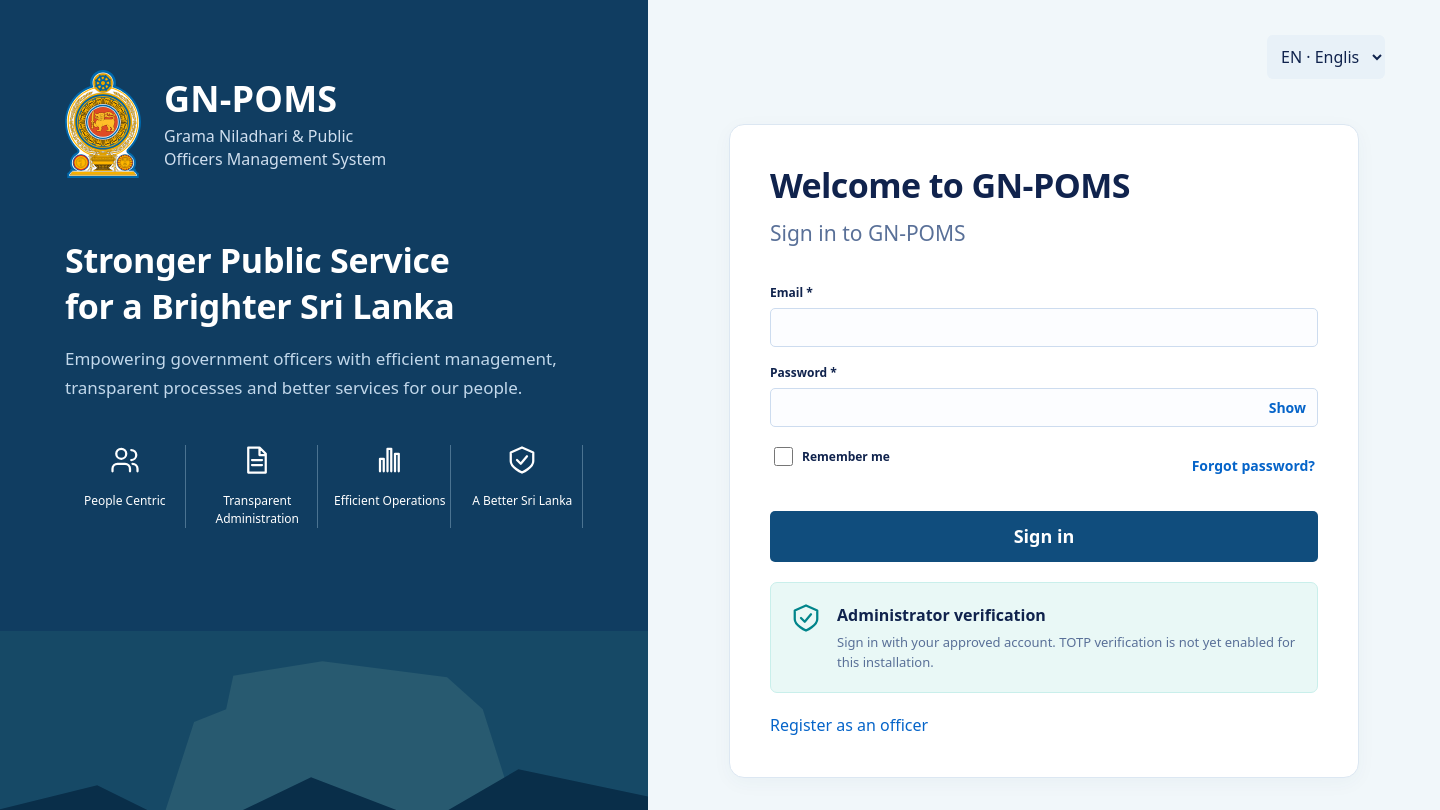
React application workflows › redirects protected pages to login and displays server validation errors
Expected: the heading "Welcome to GN-POMS" is shown, left=770, top=162, right=1130, bottom=208
Type "admin@example.test" into the field labelled "Email *" at (1044, 328), box left=770, top=308, right=1318, bottom=347
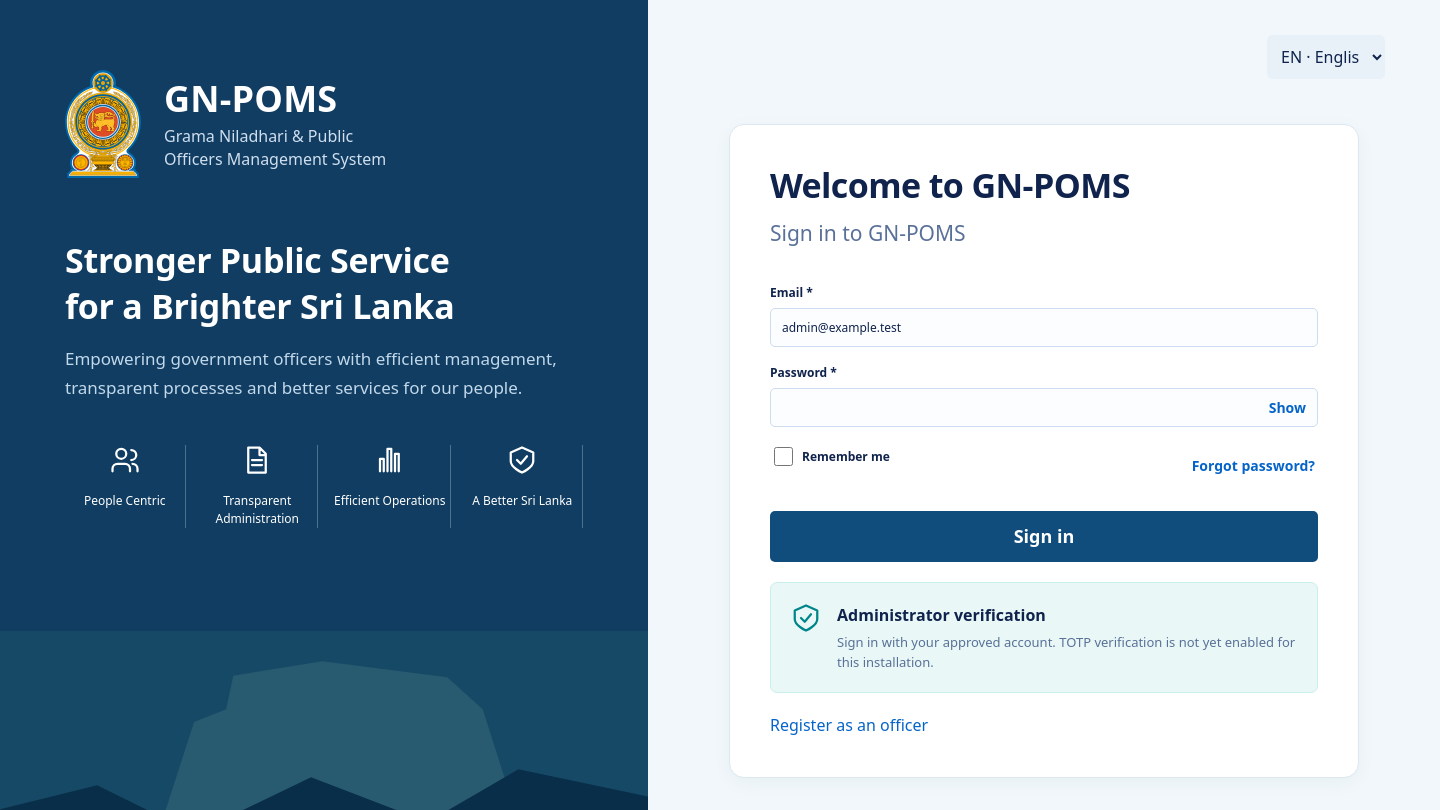
Type "incorrect" into the password field labelled "Password *" at (1044, 408), box left=770, top=388, right=1318, bottom=427
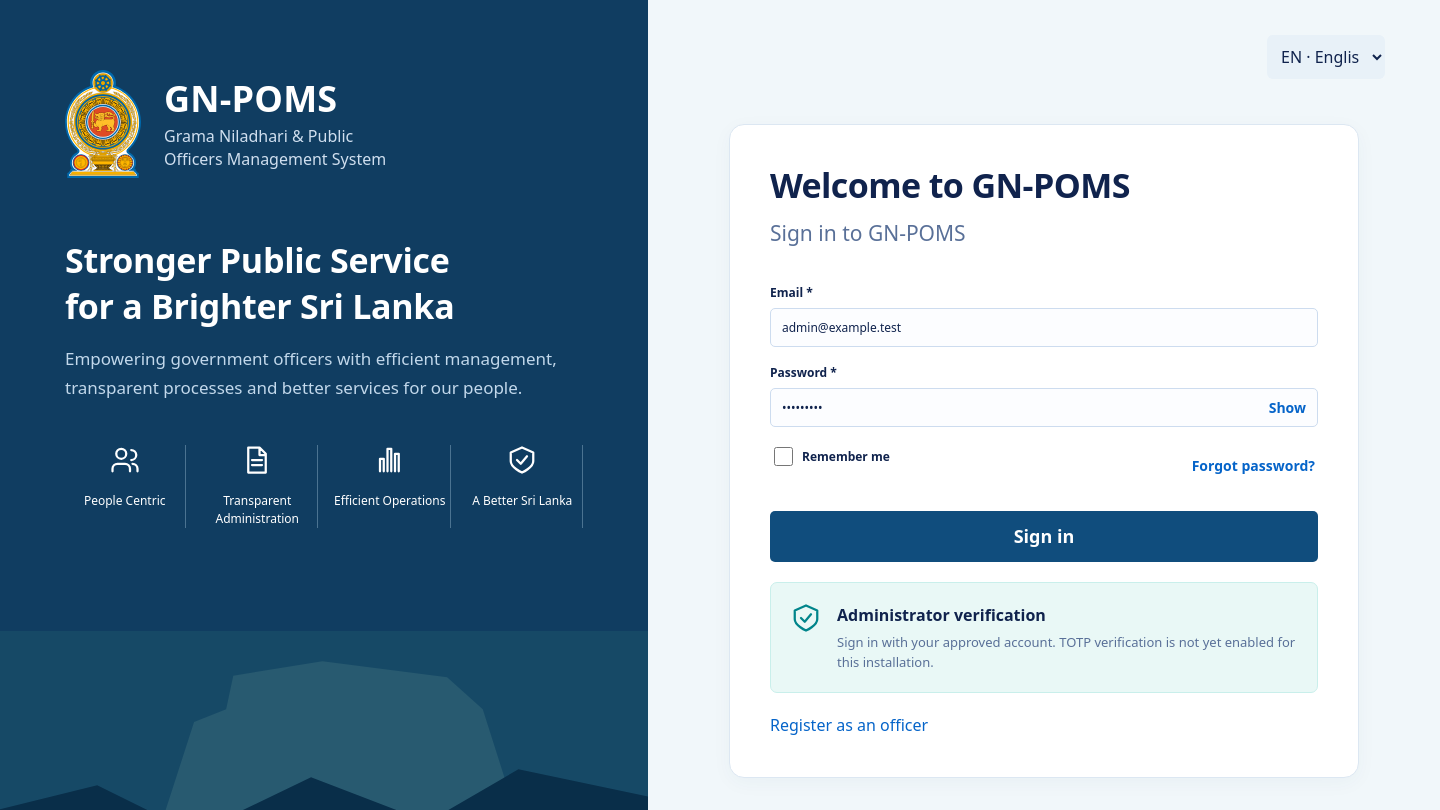
Click the button "Sign in" at (1044, 537), box left=770, top=511, right=1318, bottom=562
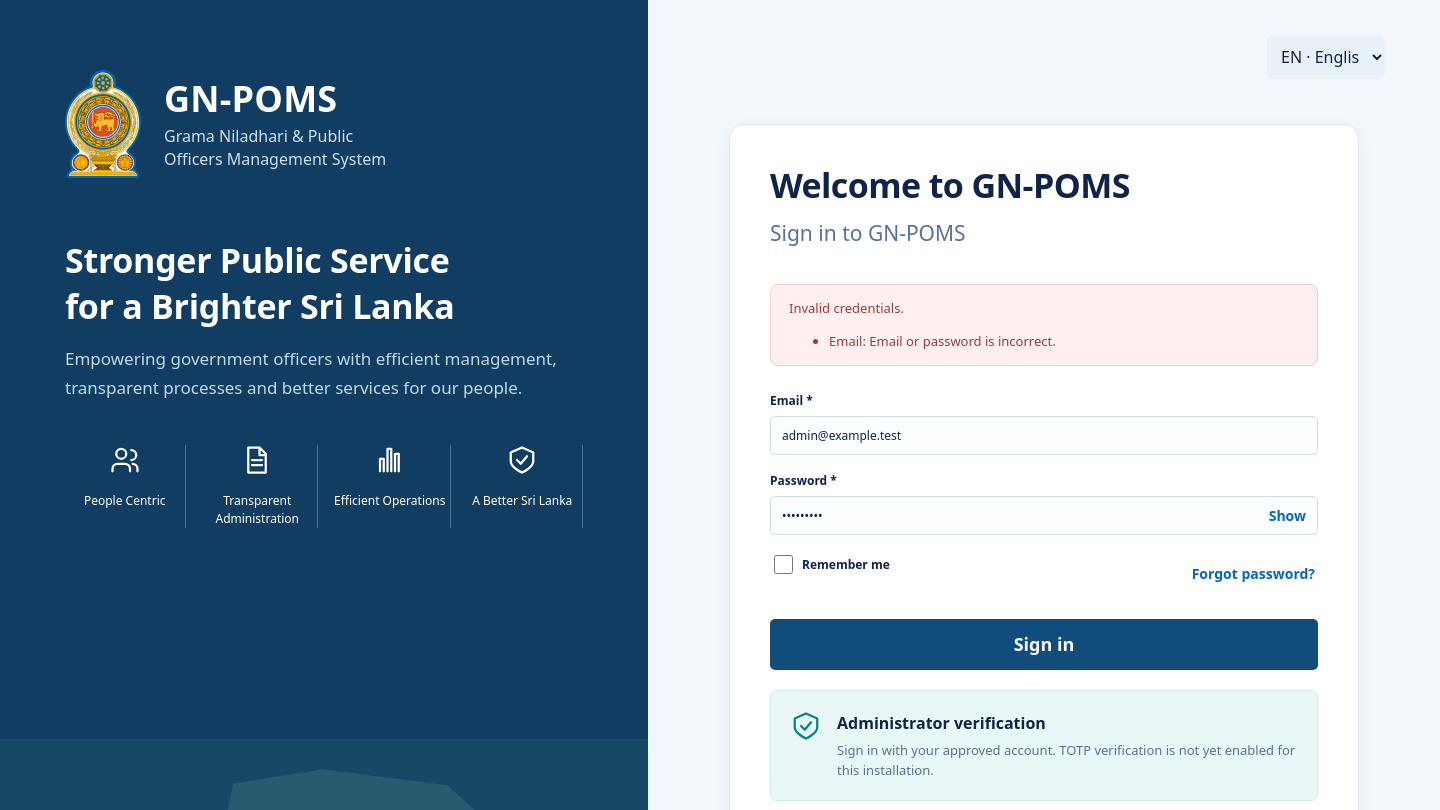
Result: the message shows "Email or password is incorrect." at left=869, top=332, right=1056, bottom=350
